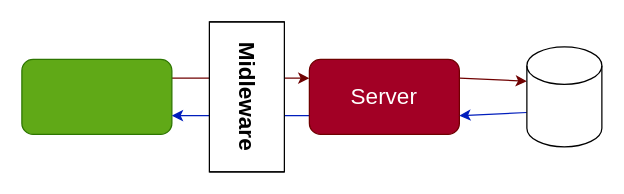
The diagram is 624 pixels wide and 194 high, and some of its shapes have lost their labels. Each missing label, with the box of its shape:
Cliente: (21, 58, 172, 134)
DB: (526, 46, 602, 147)
